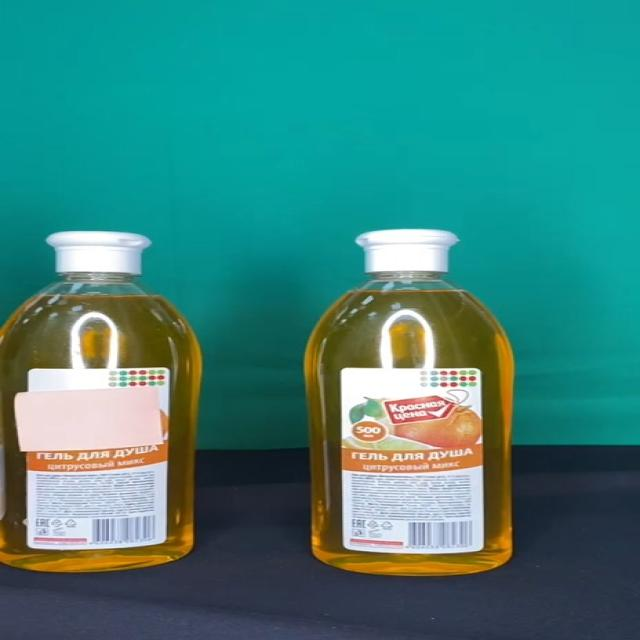Bottle: (303, 229, 515, 576), (0, 231, 202, 572)
Cap: (355, 230, 460, 273), (46, 232, 152, 274)
